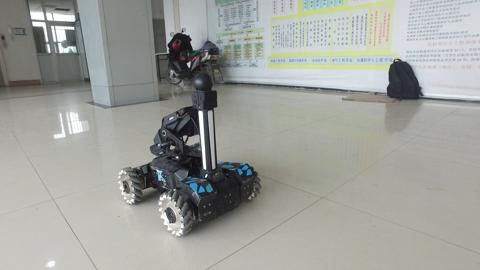bag: (379, 54, 432, 107)
chariot: (107, 72, 269, 242)
